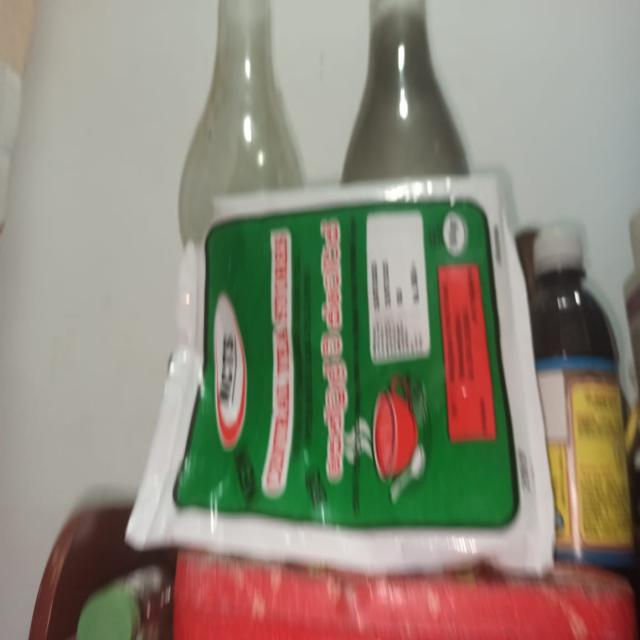Central Tea: (138, 227, 540, 590)
